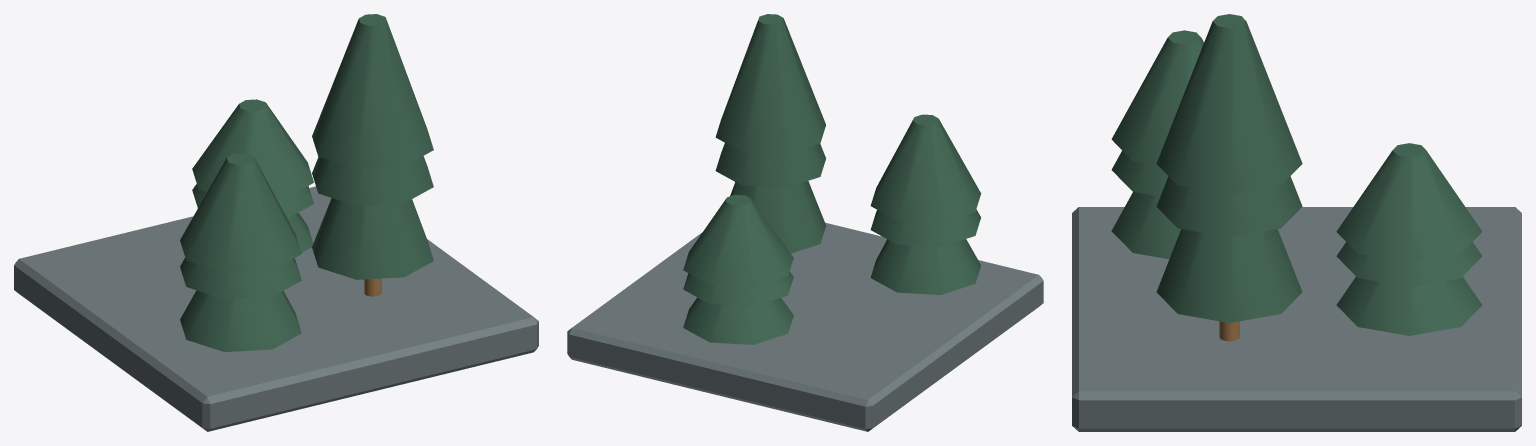
The model's file is garden.lod0.glb.
The picture shows the model from 3 angles, left to right: view 1: azimuth 30°, elevation 25°; view 2: azimuth 150°, elevation 25°; view 3: azimuth 270°, elevation 25°; orthographic projection. The views are drawn at different scales.
Visible parts, largest first — view 1: structure; view 2: structure; view 3: structure.
Boxes of the visible parts, x1,y1,x2,y2 form: structure: (14, 14, 538, 431); structure: (567, 14, 1043, 431); structure: (1072, 14, 1521, 431).
Bounding box in the file's own units: 4 × 3.5 × 4.
